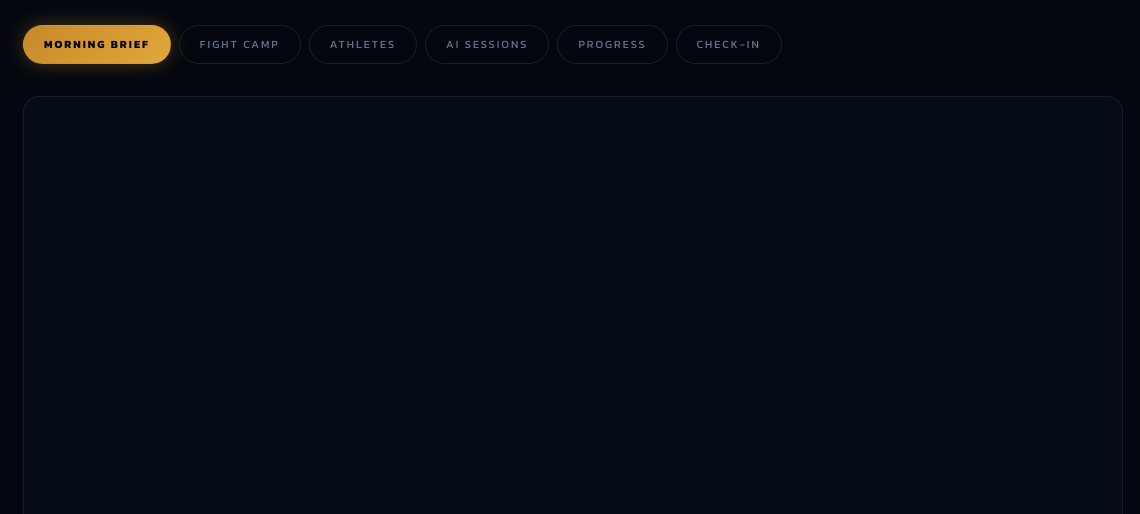
Test: Features tabs › switches to Fight Camp panel on click
Click the button "Fight Camp".
click(240, 44)  # box 179,25 -> 301,64
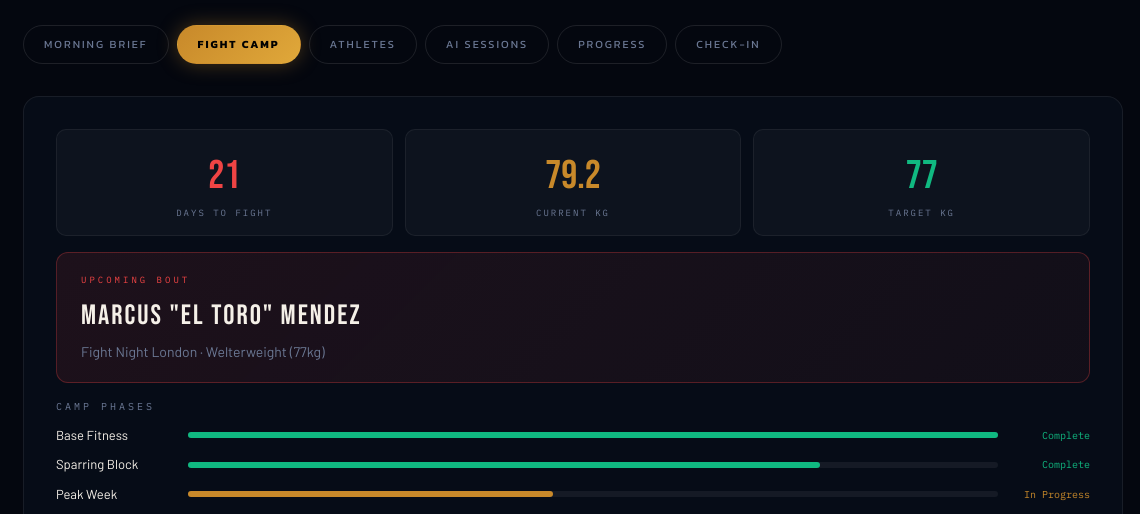
Expected: the text "DAYS TO FIGHT" is shown, 176,206 -> 272,218
